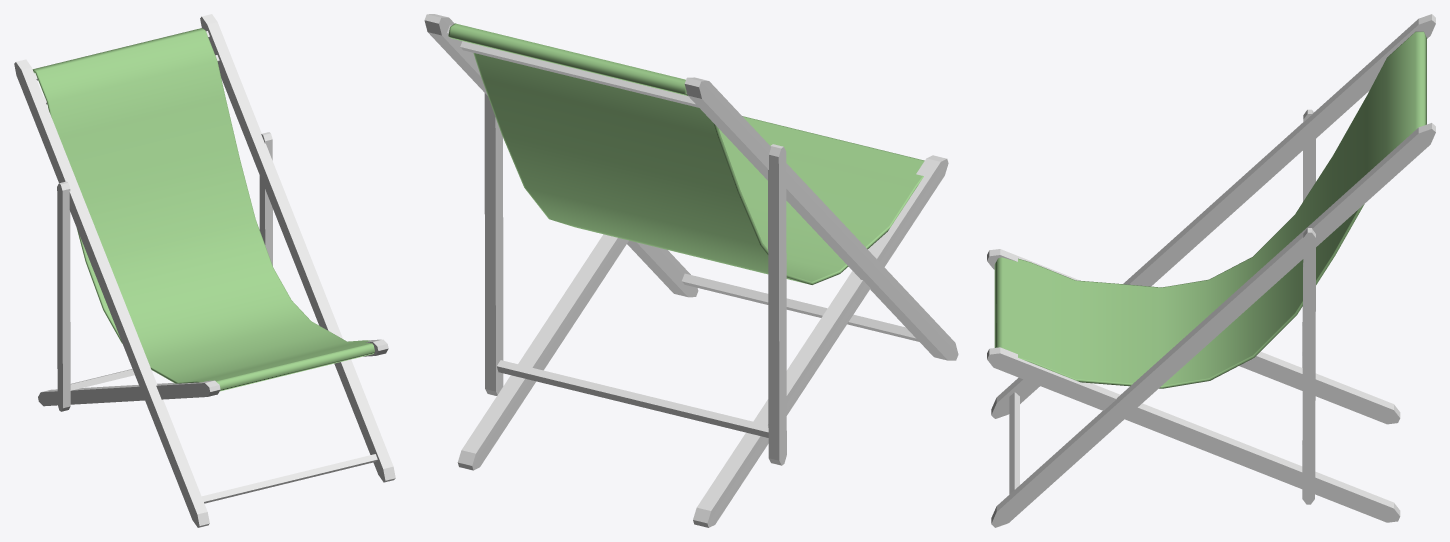
Rendered from BeachChair2.fbx.
The picture shows the model from 3 angles, left to right: view 1: azimuth 30°, elevation 25°; view 2: azimuth 150°, elevation 25°; view 3: azimuth 270°, elevation 25°; orthographic projection. The views are drawn at different scales.
Visible parts, largest first — view 1: BeachChair_LOD0; view 2: BeachChair_LOD0; view 3: BeachChair_LOD0.
Part boxes in pixels (left/top/right/bottom): BeachChair_LOD0: left=14, top=14, right=395, bottom=527; BeachChair_LOD0: left=424, top=14, right=958, bottom=527; BeachChair_LOD0: left=987, top=14, right=1435, bottom=527.
Size of what is drawn, in the model's own units: 140 by 212 by 216.
